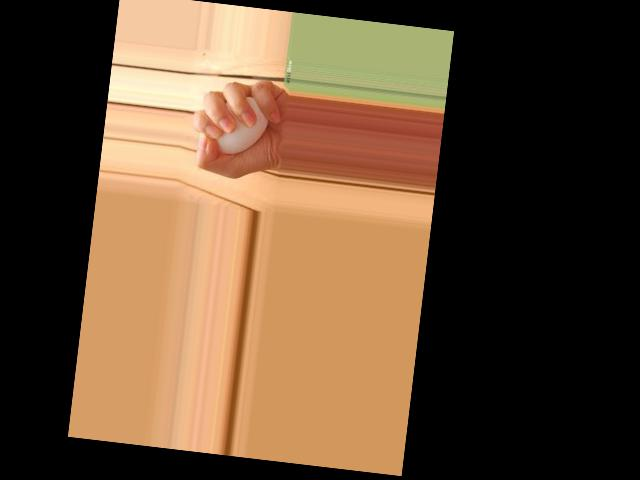egg: (209, 92, 270, 157)
